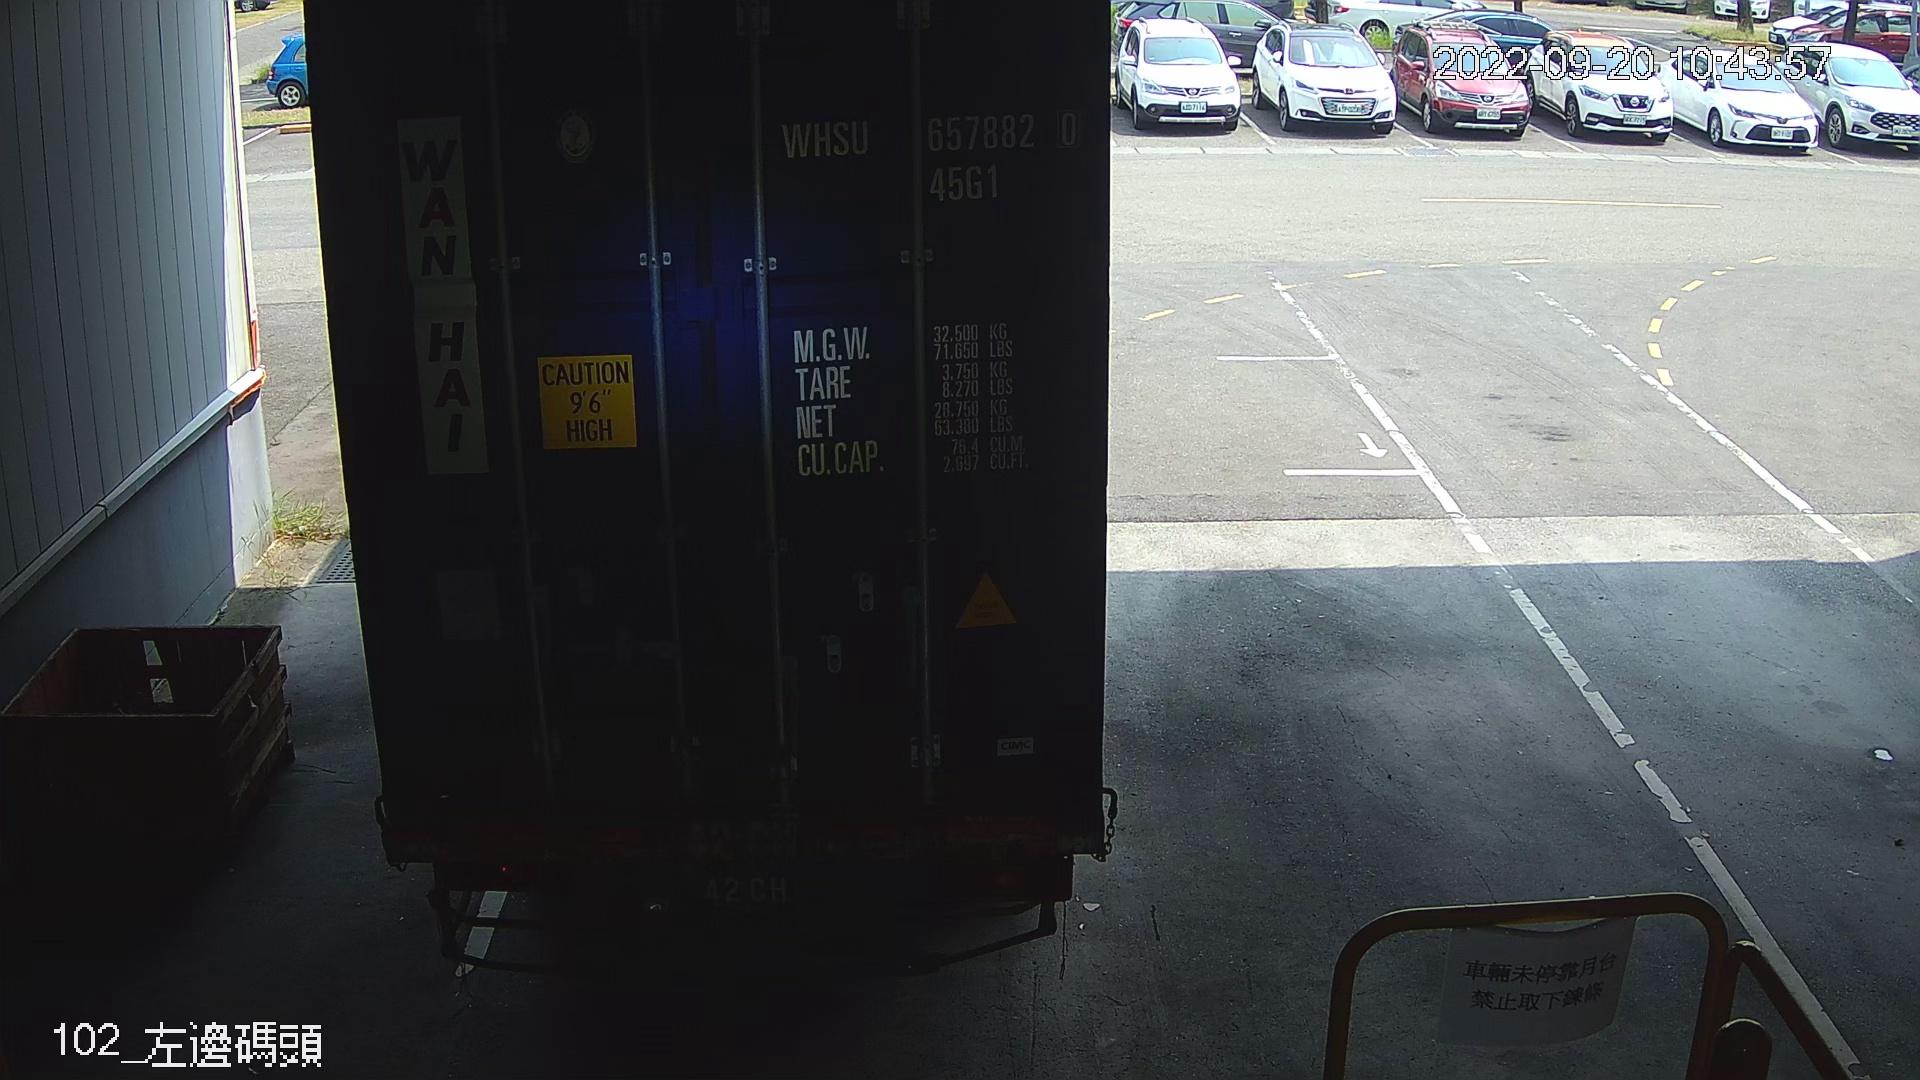container: (769, 102, 1088, 210)
